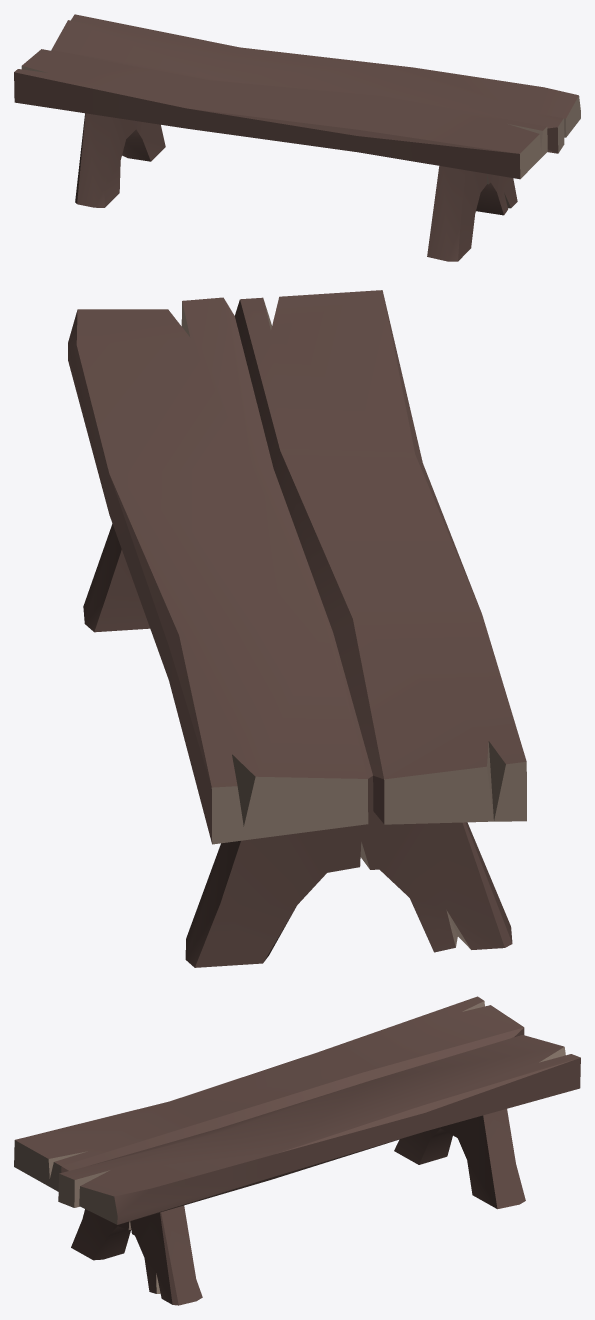
The model's file is bench.glb.
3 renders of one model, top to bottom at view 1: azimuth 30°, elevation 25°; view 2: azimuth 150°, elevation 25°; view 3: azimuth 270°, elevation 25°, orthographic. The views are drawn at different scales.
Parts seen in each view (by area): view 1: bench; view 2: bench; view 3: bench.
Boxes of the visible parts, bbox=[...] form: bench: bbox=[14, 14, 580, 261]; bench: bbox=[68, 290, 526, 967]; bench: bbox=[14, 996, 580, 1305].
Bounding box in the file's own units: 11.96 × 3.68 × 13.82.
Materials: 1 (1 with a texture image).
